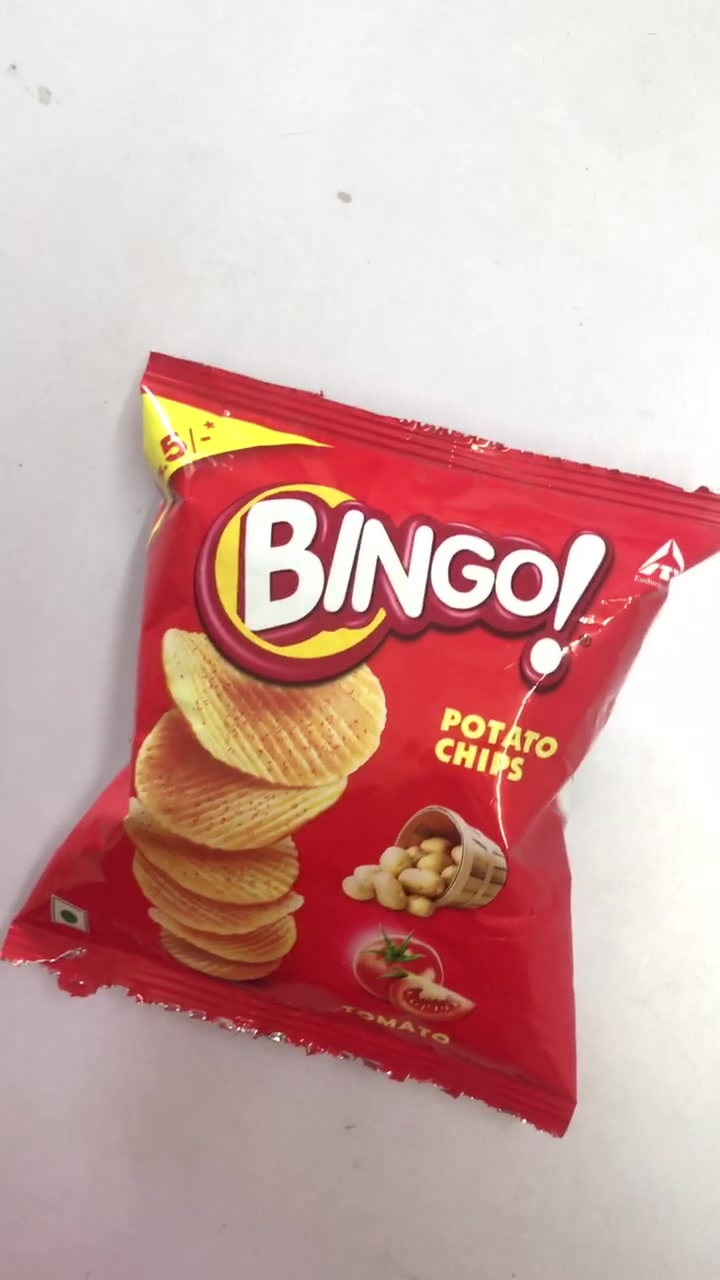Bingo: (5, 359, 720, 1142)
